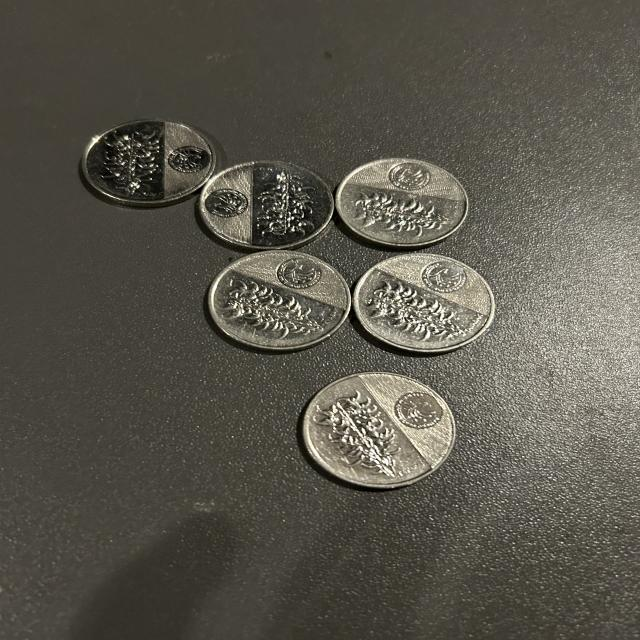5_New_Back: (309, 393, 402, 483), (217, 280, 332, 348), (362, 274, 473, 334), (249, 162, 324, 242), (91, 119, 163, 200), (350, 189, 452, 242)
